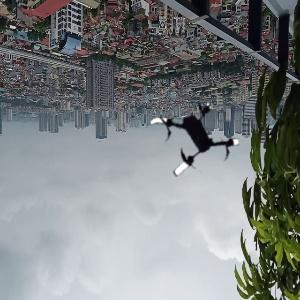drone: (145, 94, 240, 189)
